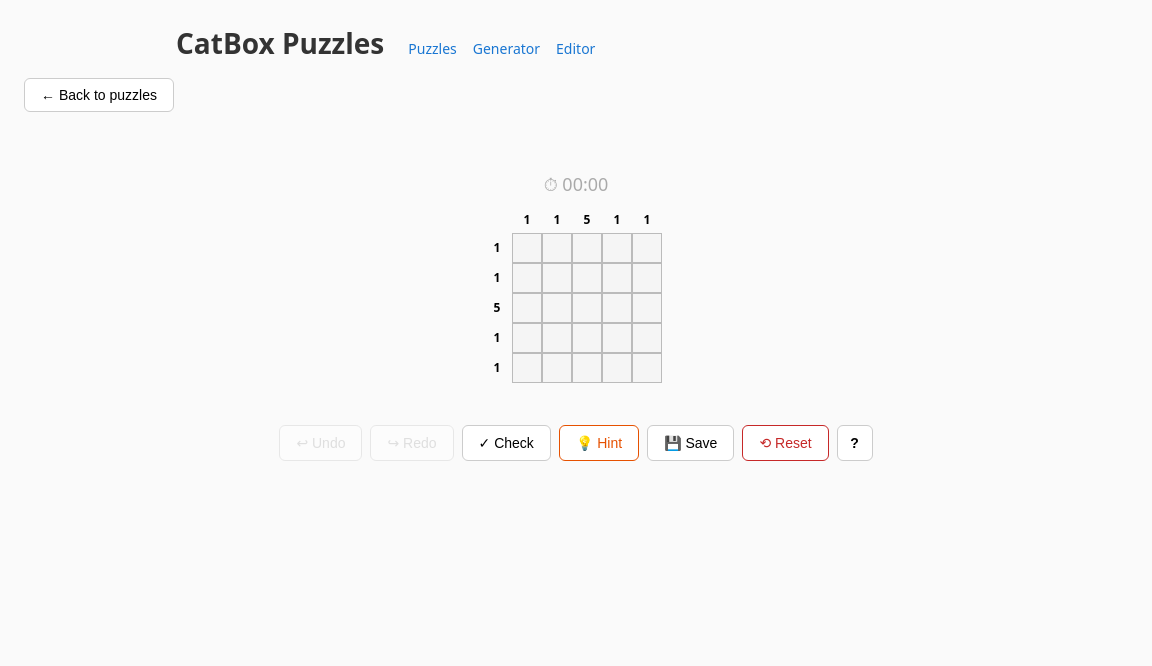
Test: Navigation › "← Back to puzzles" button navigates back to browser
Check: the table named "puzzle grid" is shown, box [494, 211, 662, 383]
Click the button "← Back to puzzles".
click(99, 95)  # box [24, 78, 174, 112]
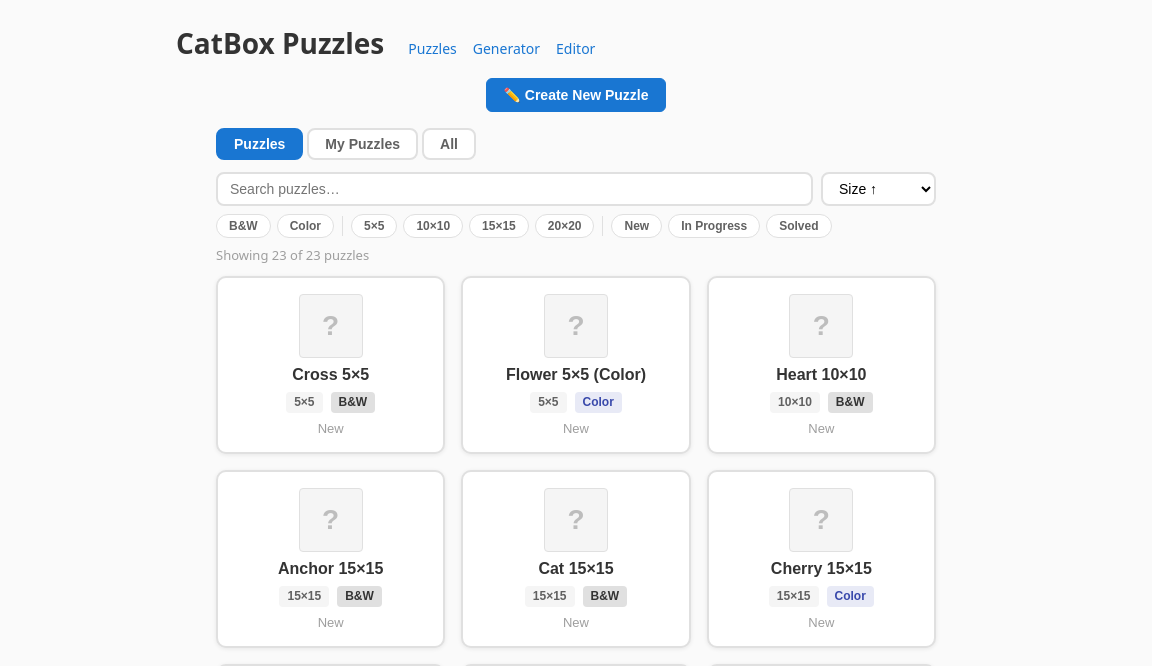
Check: the button "Puzzles" is shown, box [216, 128, 303, 160]
